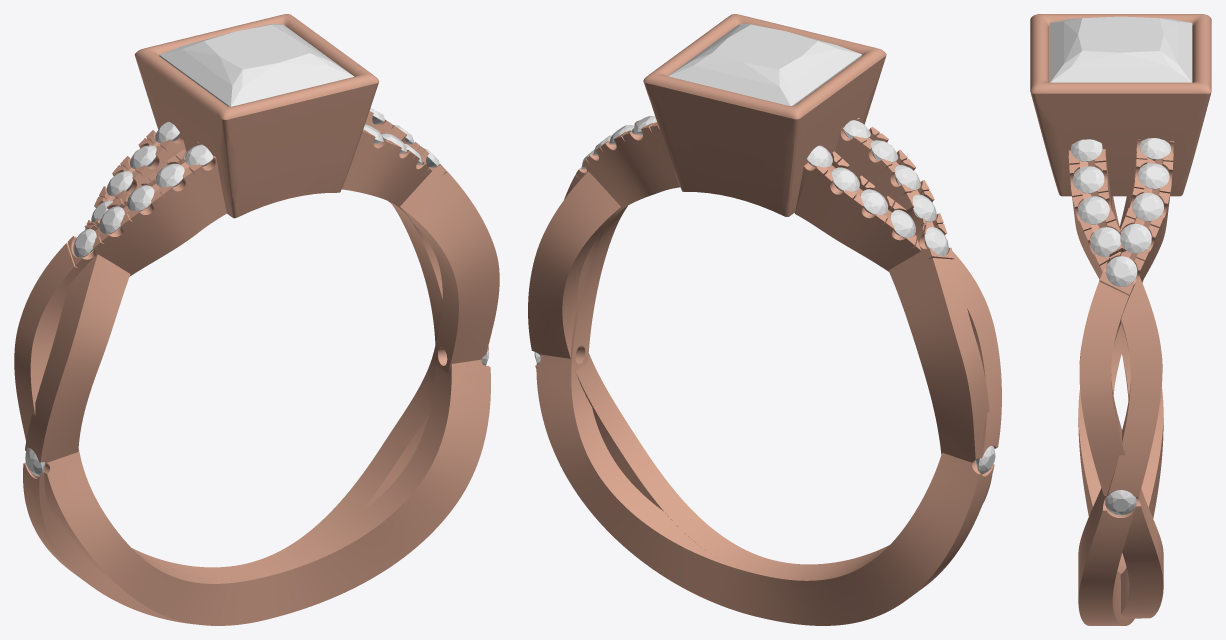
Rendered from diamond-princess-rosegold-bezelset-twist-sidestones.glb.
3 renders of one model, left to right at view 1: azimuth 30°, elevation 25°; view 2: azimuth 150°, elevation 25°; view 3: azimuth 270°, elevation 25°, orthographic.
Parts seen in each view (by area): view 1: metal.002, stone; view 2: metal.002, stone; view 3: metal.002, stone, side.015, side.016, side.017, side.012, side.011, side.013, side.018, side.010, side.014, side.019.
Part boxes in pixels (left/top/right/bottom): metal.002: left=14, top=14, right=499, bottom=625; stone: left=159, top=24, right=354, bottom=106; metal.002: left=528, top=14, right=1001, bottom=625; stone: left=668, top=24, right=862, bottom=105; metal.002: left=1030, top=14, right=1211, bottom=625; stone: left=1049, top=16, right=1192, bottom=82; side.015: left=1105, top=256, right=1137, bottom=286; side.016: left=1120, top=223, right=1151, bottom=253; side.017: left=1132, top=192, right=1163, bottom=221; side.012: left=1078, top=196, right=1109, bottom=224; side.011: left=1090, top=227, right=1121, bottom=256; side.013: left=1073, top=166, right=1104, bottom=193; side.018: left=1138, top=163, right=1169, bottom=189; side.010: left=1105, top=490, right=1136, bottom=515; side.014: left=1071, top=139, right=1102, bottom=161; side.019: left=1139, top=138, right=1170, bottom=159.
Size of the model in its own units: 19.97 by 23.65 by 6.89.
